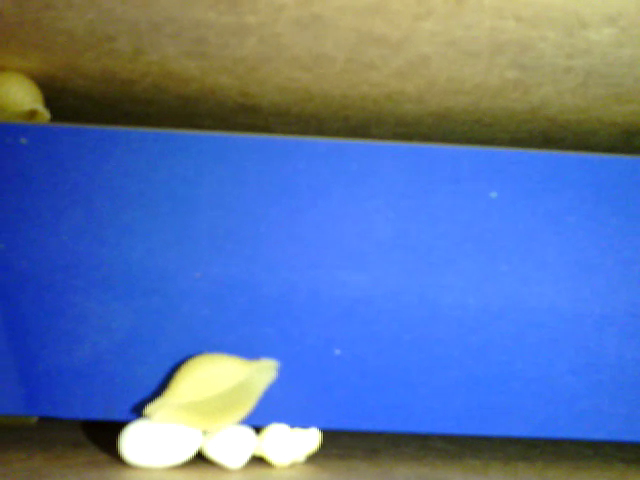shell: (143, 352, 281, 431), (1, 70, 53, 129)
